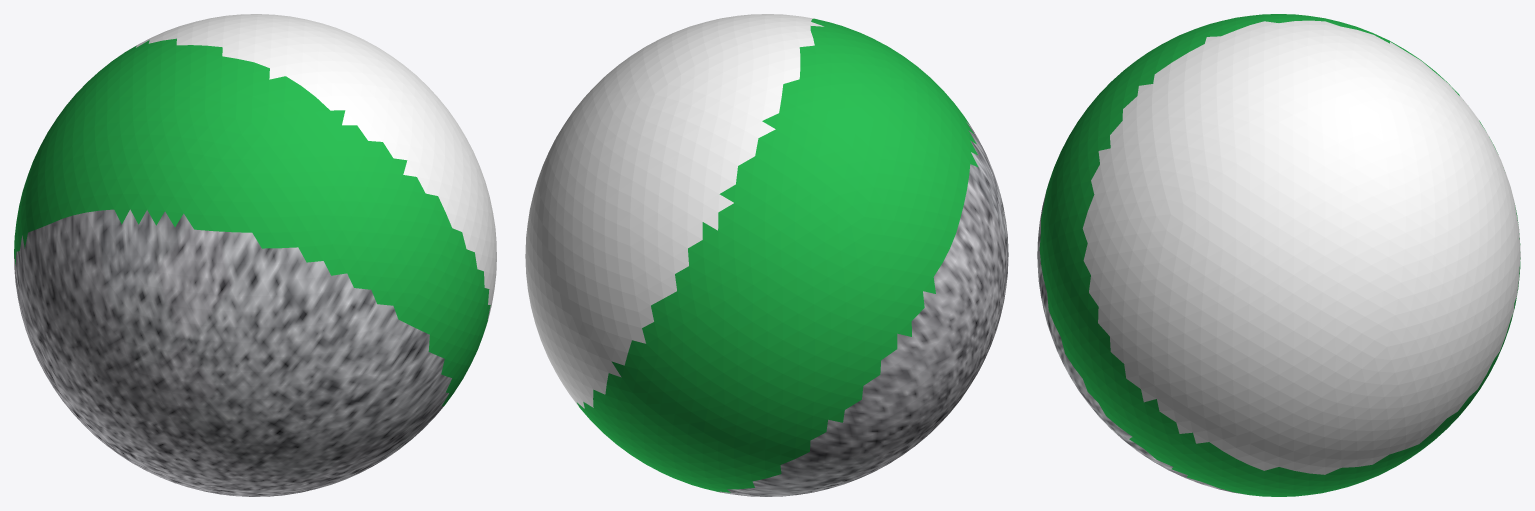
Rendered from ballWithTexture.obj.
The picture shows the model from 3 angles, left to right: view 1: azimuth 30°, elevation 25°; view 2: azimuth 150°, elevation 25°; view 3: azimuth 270°, elevation 25°; orthographic projection.
Visible parts, largest first — view 1: Object.1; view 2: Object.1; view 3: Object.1.
Boxes of the visible parts, <box> form: Object.1: <box>14,14,496,496</box>; Object.1: <box>525,14,1008,496</box>; Object.1: <box>1037,14,1520,496</box>.
Size of the model in its own units: 40 by 40 by 40.
3 materials, 1 textured.
